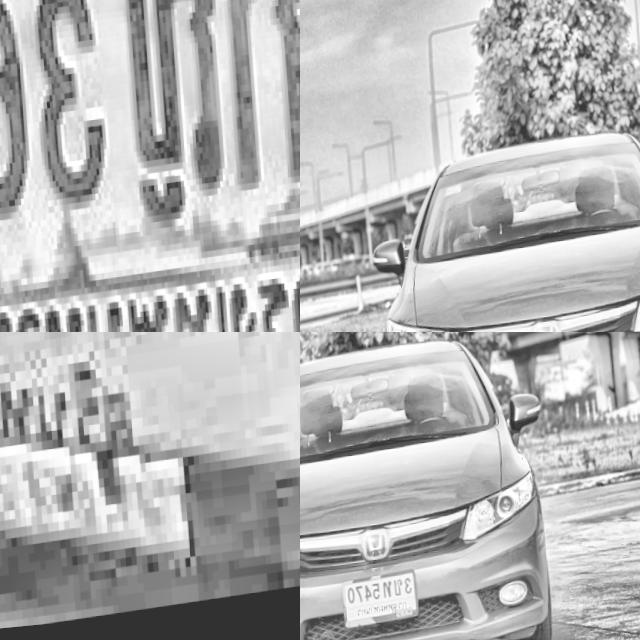license-plate: (0, 0, 300, 332), (0, 332, 300, 640), (334, 569, 418, 640)
